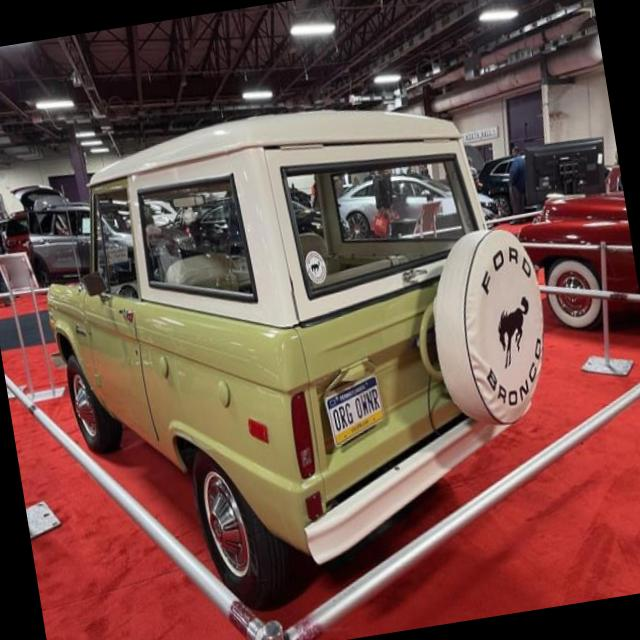LicensePlate: (324, 375, 385, 449)
